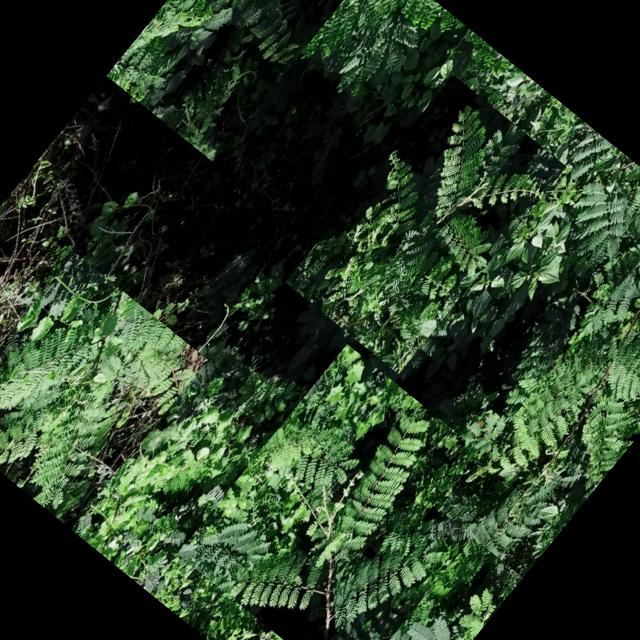Mysore-Thorn-Weed: (177, 344, 517, 640), (285, 75, 566, 374), (438, 209, 640, 578), (0, 252, 207, 529), (106, 0, 379, 162), (259, 0, 460, 128), (517, 124, 640, 279)
